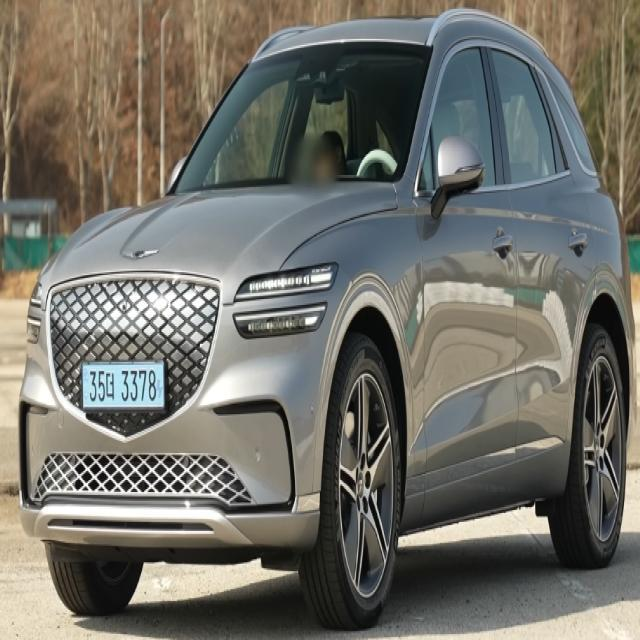car: (69, 356, 181, 425)
carev: (155, 361, 165, 409), (81, 362, 90, 415)
